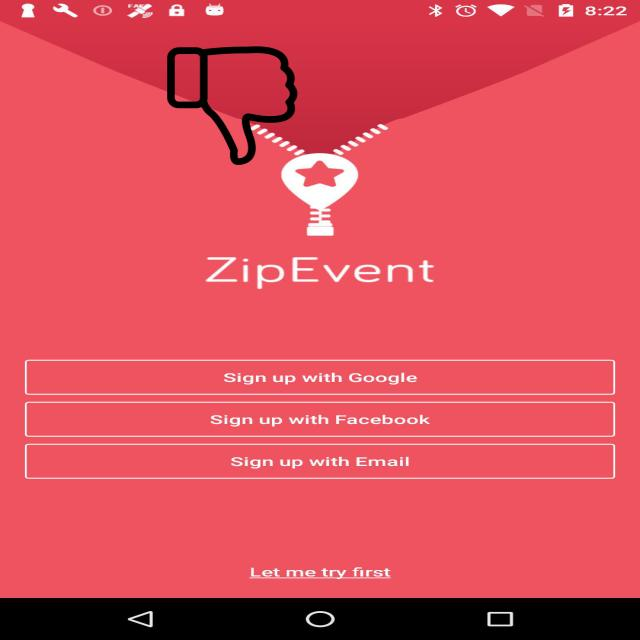obstruction: (166, 46, 300, 165)
